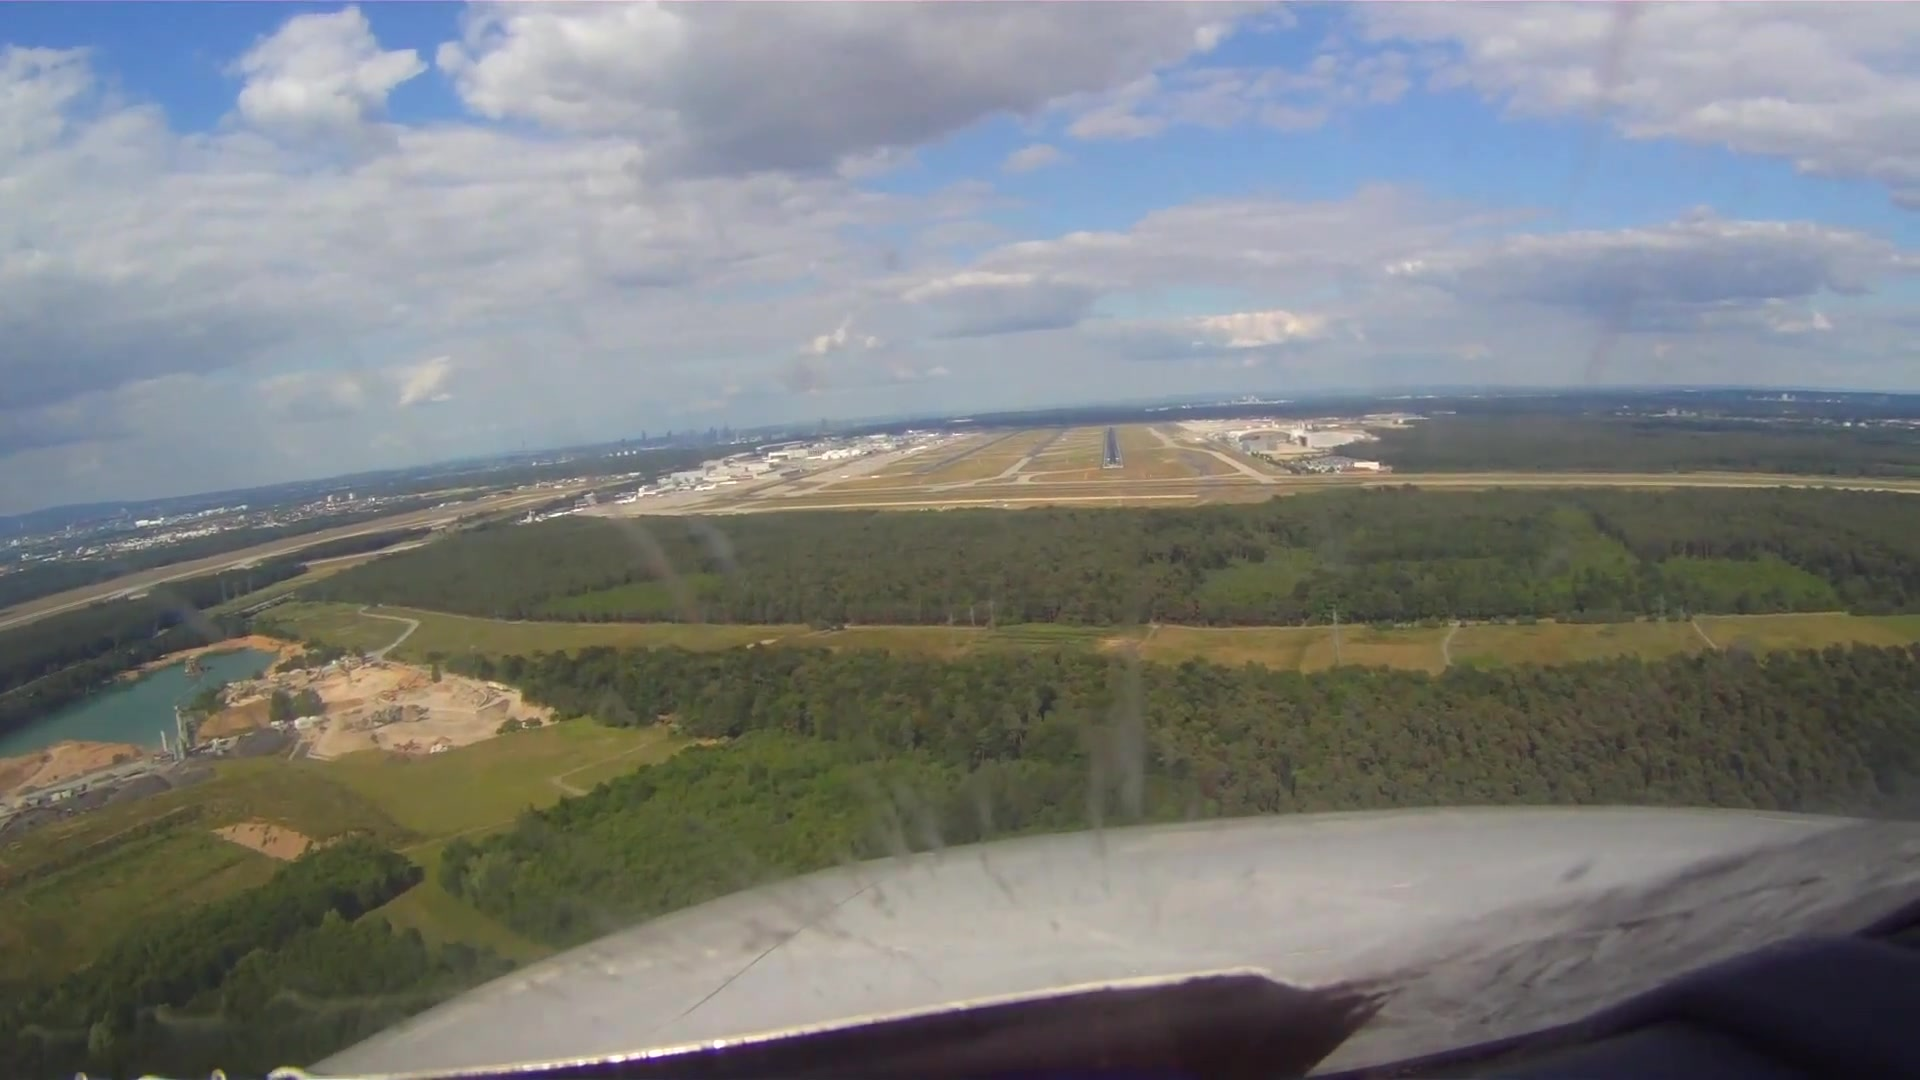runway: (1098, 422, 1127, 472)
